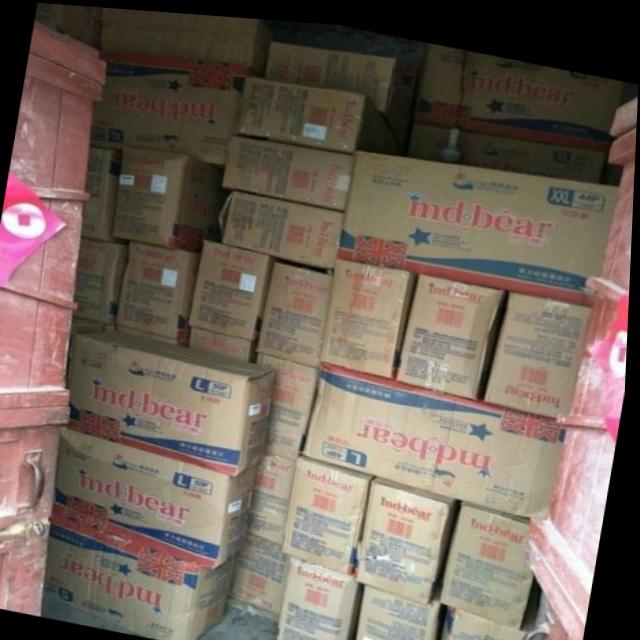box: (338, 144, 621, 296), (306, 355, 569, 509), (65, 328, 278, 474), (56, 422, 260, 566), (47, 511, 239, 640), (415, 36, 623, 132), (93, 60, 244, 166), (407, 105, 610, 174), (398, 267, 510, 392), (265, 36, 408, 132), (486, 284, 595, 409), (360, 470, 463, 596), (240, 74, 403, 150), (115, 143, 231, 249), (100, 6, 279, 74), (444, 493, 538, 621), (323, 252, 420, 372), (283, 451, 380, 568), (224, 132, 355, 205), (219, 187, 344, 262), (192, 234, 280, 337), (258, 258, 335, 363), (120, 239, 203, 335), (282, 551, 368, 640), (259, 348, 322, 456), (360, 577, 450, 640), (231, 529, 292, 617), (76, 236, 131, 323), (83, 145, 131, 243), (251, 448, 300, 539), (444, 599, 543, 640), (192, 325, 261, 359), (121, 324, 192, 344), (72, 316, 106, 356), (398, 54, 417, 109)
